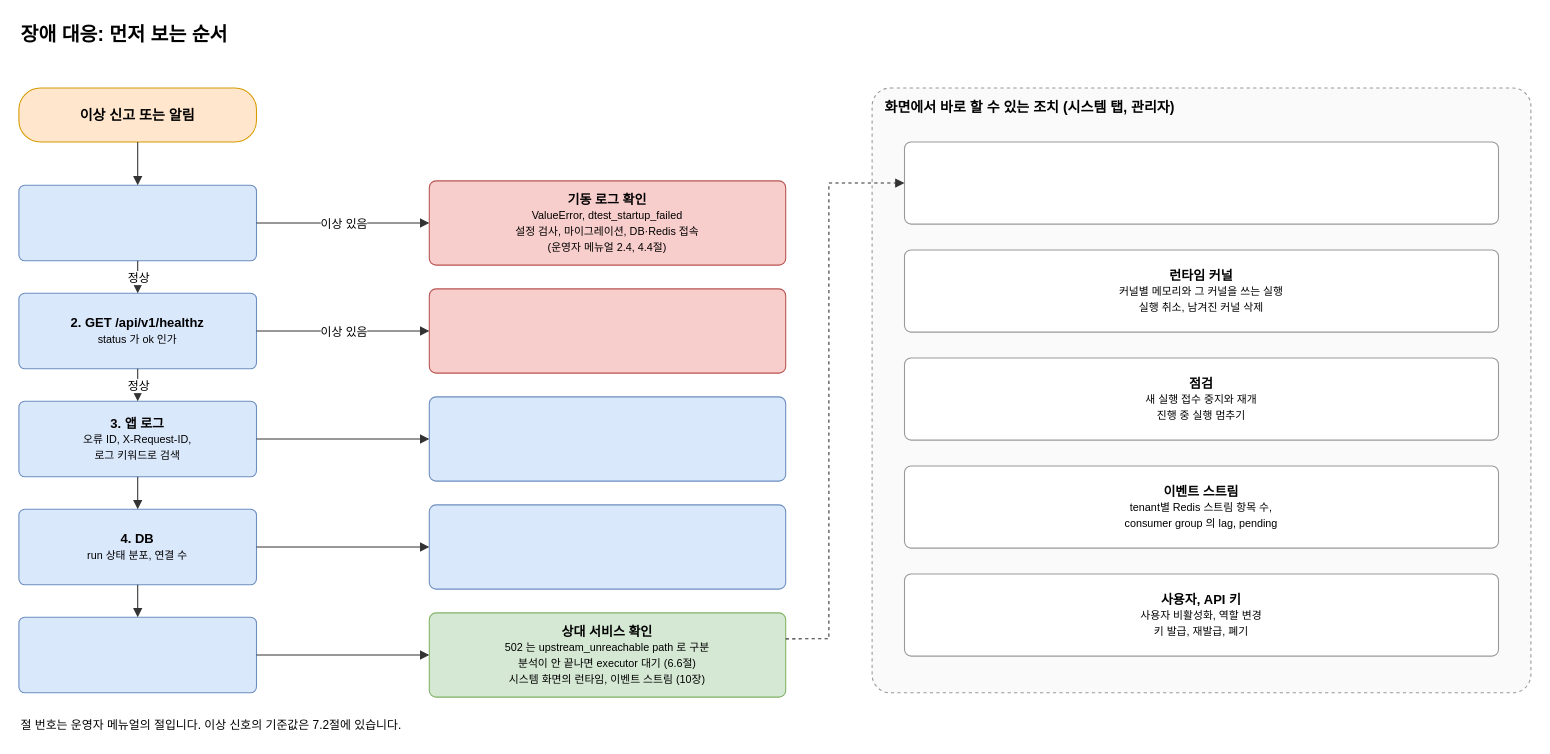
Some shapes in this 1550 by 754 pixel diagram are drawn without their labels. The centre of each missing label's shape, as x and y in pixels:
"1. 인스턴스 상태 떠 있는가, 재시작을 반복하는가" goes at pixel 137 222.
"5. 연결된 서비스 executor, batch, LLM 게이트웨이, Redis" goes at pixel 137 654.
"run, DB 대응 queued 적체, failed 증가 (6.5절) 연결 한도 (6.8절), 자주 쓰는 SQL (6.9절)" goes at pixel 607 546.
"런타임 런타임별 CPU, 메모리, 실행 슬롯 점검, 비우기, 활성화, 사용 중지" goes at pixel 1200 182.
"죽은 루프 확인 응답의 stopped 에 루프 이름 실행 환경이 인스턴스를 재시작함 반복되면 직전 예외 로그 (9.3절)" goes at pixel 607 330.
"증상별 대응표로 이동 로그 키워드 사전 (6.11절) 증상별 대응표 (6.3절)" goes at pixel 607 438.
